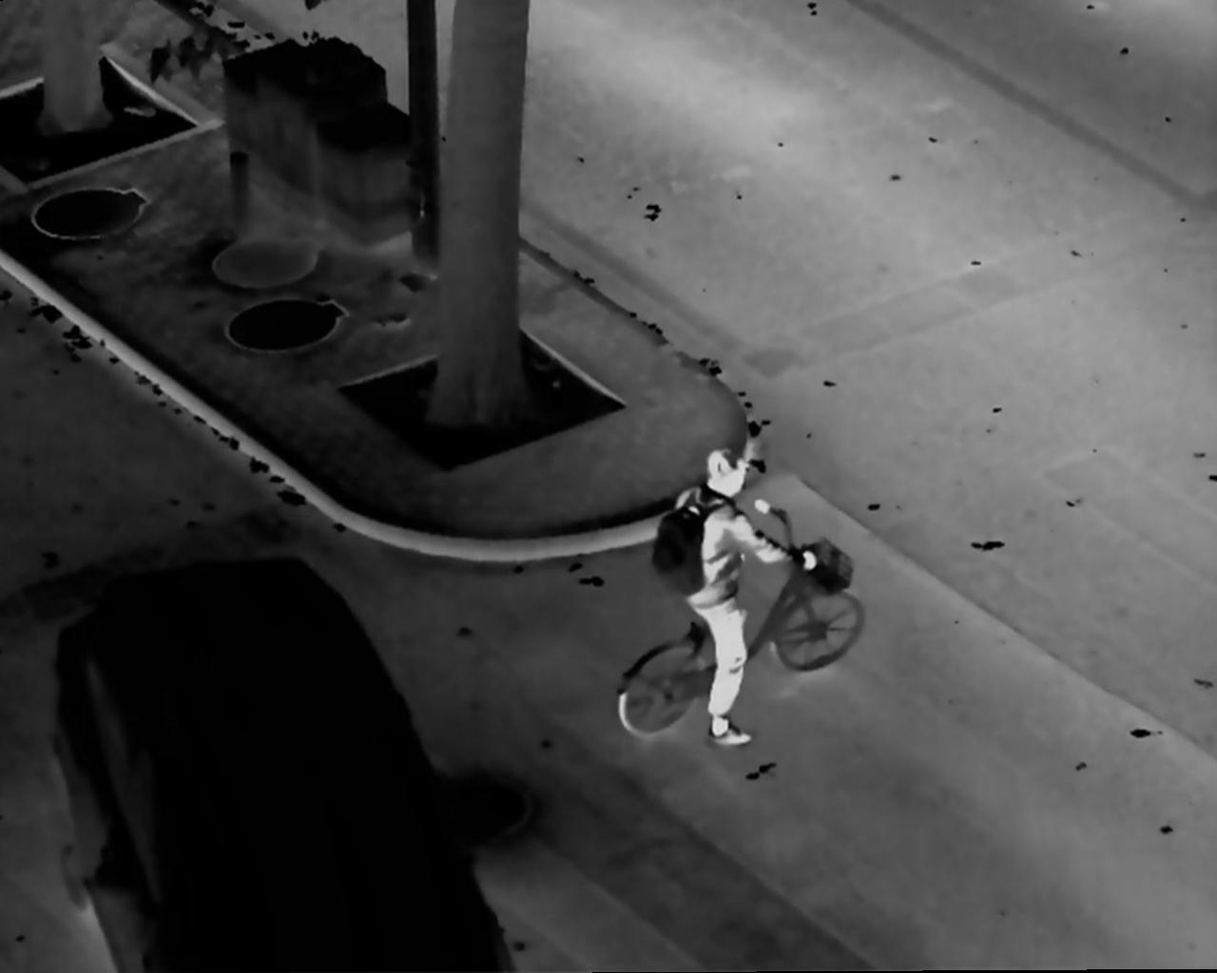person: (661, 445, 819, 752)
